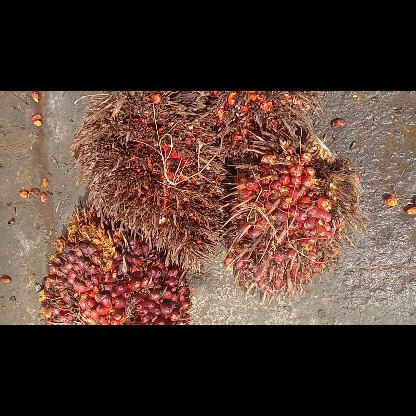TBS masak: (216, 152, 368, 304), (40, 200, 190, 324)
Terlalu masak: (70, 90, 226, 274), (208, 90, 334, 162)
